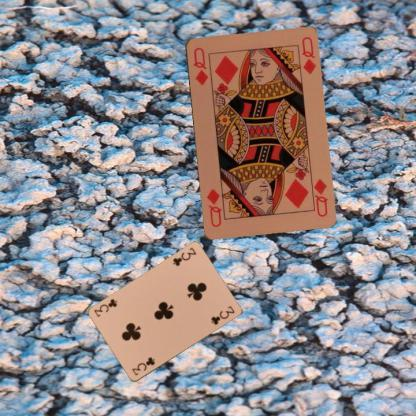3c: (170, 245, 198, 268), (129, 354, 156, 376)
Qd: (307, 174, 329, 218), (191, 44, 210, 86)
